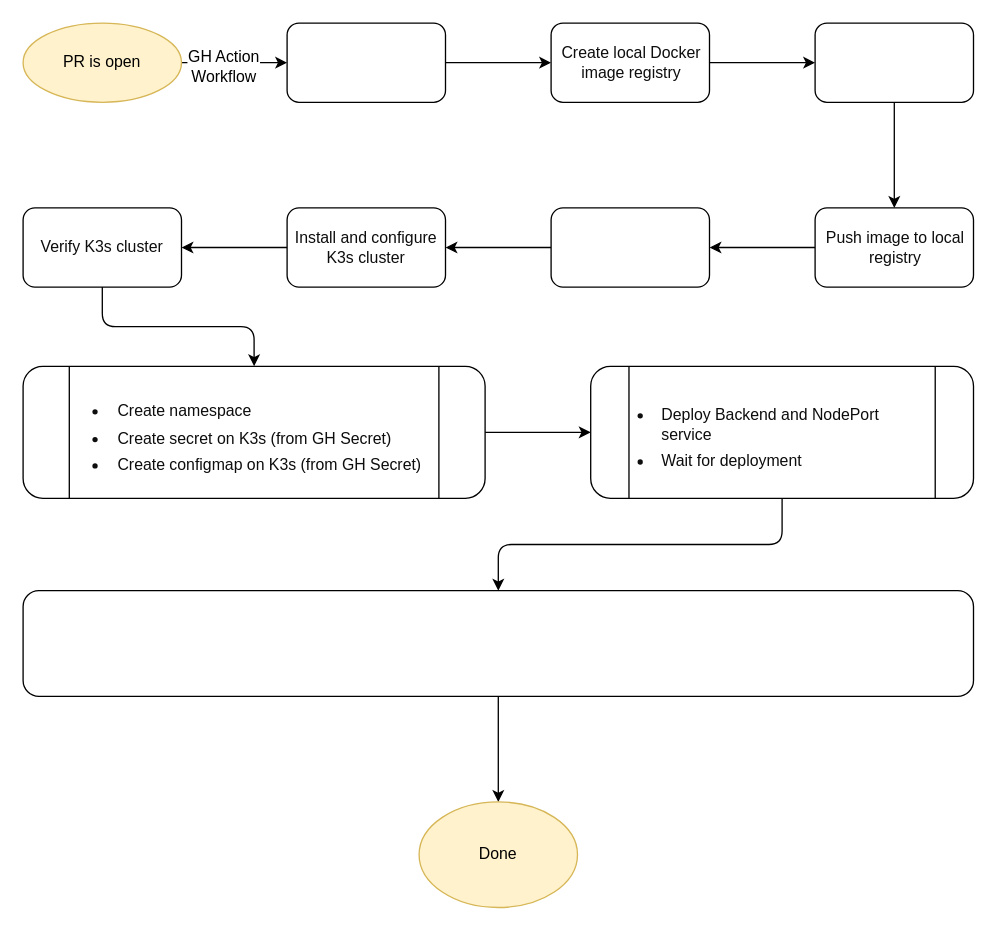
Image size: 997x931. Some labels were removed from this diagram. Each missing label, with the centre of its shape:
"Build local Docker image (GH Secrets are required)" belongs at (x=894, y=62).
"Checkout Code" belongs at (x=366, y=62).
"Configure local registry for K3s" belongs at (x=630, y=247).
"Execute test cases (extensible)" belongs at (x=498, y=642).
